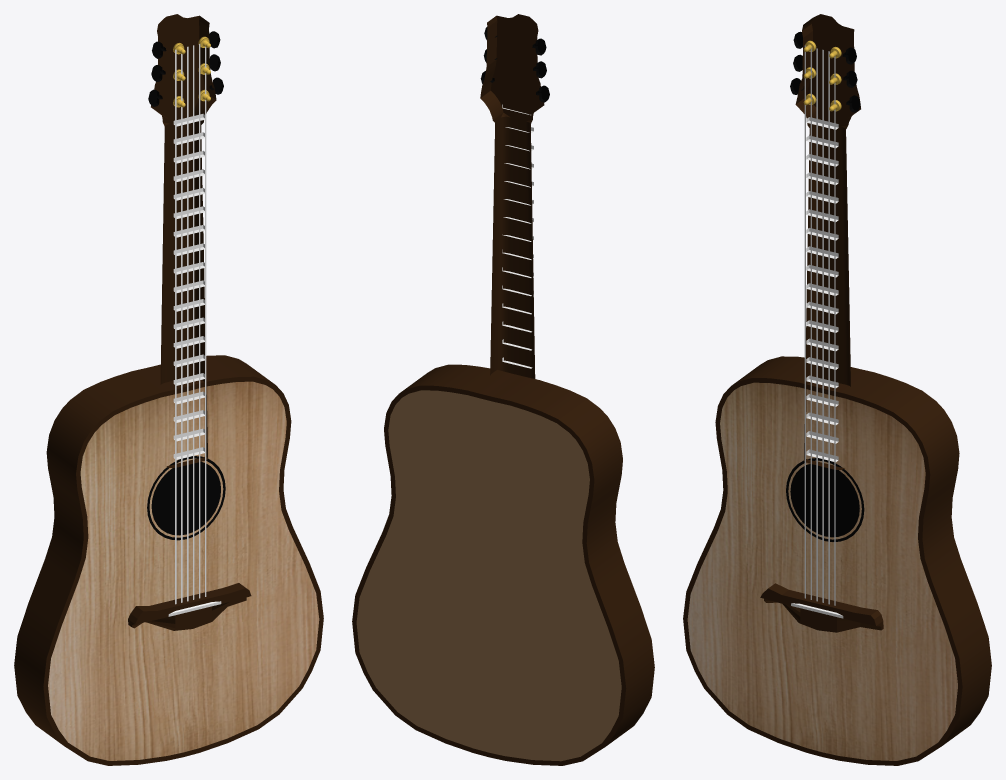
Rendered from Guitar.glb.
The picture shows the model from 3 angles, left to right: view 1: azimuth 30°, elevation 25°; view 2: azimuth 150°, elevation 25°; view 3: azimuth 330°, elevation 25°; orthographic projection. The views are drawn at different scales.
Parts seen in each view (by area): view 1: simpleGuitar; view 2: simpleGuitar; view 3: simpleGuitar.
Part boxes in pixels (left/top/right/bottom): simpleGuitar: left=14, top=14, right=323, bottom=765; simpleGuitar: left=352, top=14, right=654, bottom=765; simpleGuitar: left=683, top=14, right=991, bottom=765.
Bounding box in the file's own units: 0.3757 × 0.9436 × 0.0895.
Materials: 5 (1 with a texture image).
